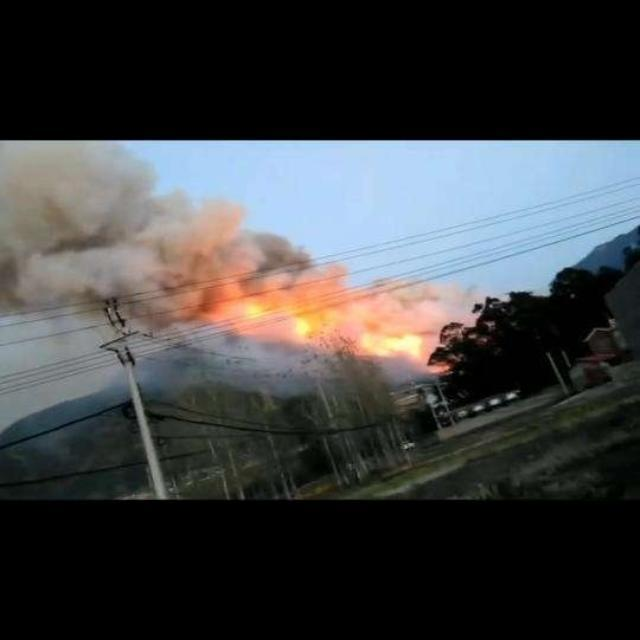Fire: (358, 332, 424, 358), (294, 318, 312, 336)
Smoke: (2, 141, 486, 401)
